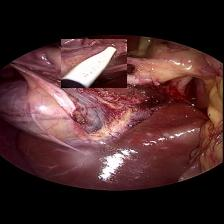Hook: (61, 38, 127, 87)
